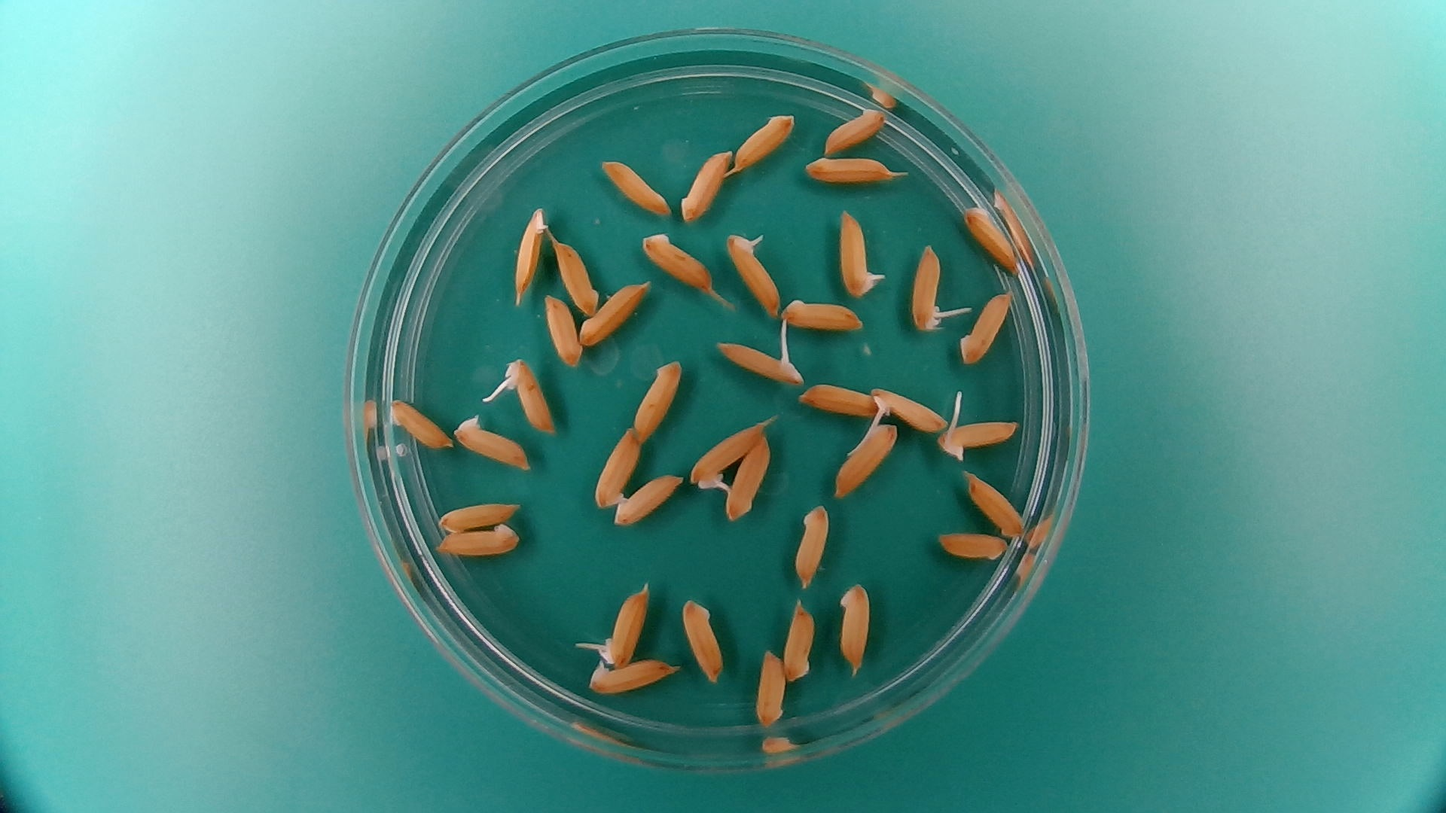no: (637, 227, 723, 297), (577, 277, 654, 348), (832, 419, 899, 499), (960, 466, 1029, 540), (450, 411, 532, 472), (721, 431, 773, 524), (596, 156, 673, 218), (631, 355, 684, 444), (590, 423, 642, 511), (956, 289, 1014, 367), (611, 470, 686, 530), (962, 199, 1022, 273), (731, 108, 798, 174), (678, 595, 725, 687), (677, 146, 732, 224), (509, 205, 551, 305), (584, 654, 682, 696), (551, 236, 599, 318), (432, 519, 529, 559), (798, 379, 889, 421), (386, 396, 454, 451), (835, 577, 872, 675), (821, 102, 889, 155), (780, 293, 866, 333), (792, 501, 831, 589), (435, 496, 522, 535), (542, 291, 584, 369), (801, 151, 898, 184), (752, 644, 787, 729), (782, 597, 816, 684), (935, 528, 1010, 564)
yes: (935, 390, 1028, 463), (685, 416, 770, 491), (721, 227, 783, 317), (590, 580, 652, 668), (496, 354, 557, 435), (835, 205, 886, 300), (712, 335, 805, 386), (909, 240, 957, 335), (865, 383, 948, 433)
